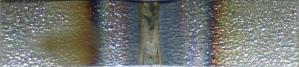soldas: (89, 0, 220, 67)
